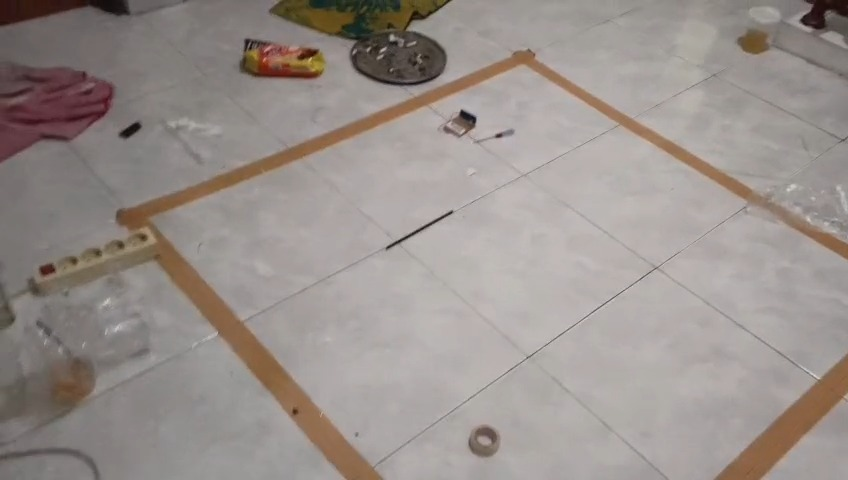floor marking: (116, 50, 847, 479), (715, 353, 847, 479)
